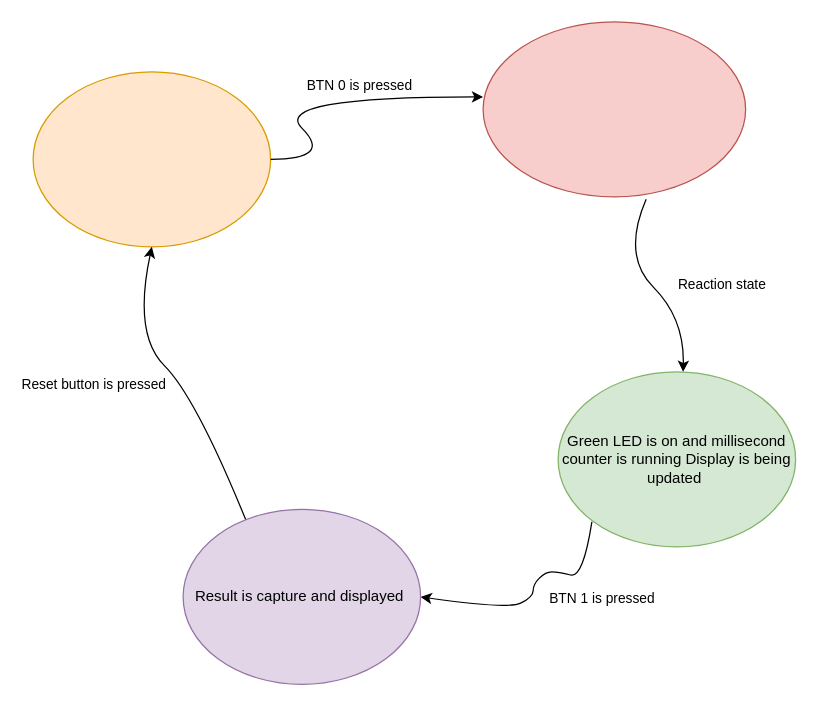
Some shapes in this 818 by 706 pixel diagram are drawn without their labels. Each missing label, with the centre of its shape:
Idle both LEDs are off: pixel 151 159
Random delay starts counting (500 - 7000ms) down and red LED is on: pixel 614 109
